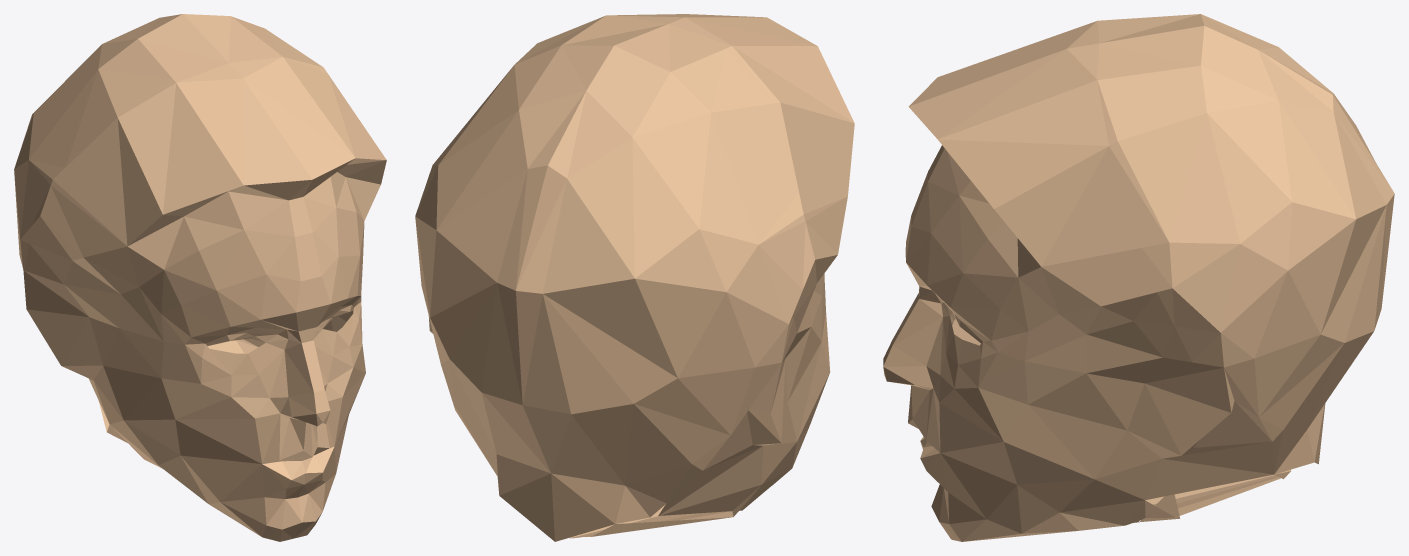
File: Head_mesh.dae
3 renders of one model, left to right at view 1: azimuth 30°, elevation 25°; view 2: azimuth 150°, elevation 25°; view 3: azimuth 270°, elevation 25°, orthographic. The views are drawn at different scales.
Parts seen in each view (by area): view 1: Head; view 2: Head; view 3: Head.
Part boxes in pixels (x1,y1,x2,y2): Head: [14, 14, 386, 541]; Head: [415, 14, 854, 541]; Head: [883, 14, 1394, 541].
Bounding box in the file's own units: 0.1874 × 0.2536 × 0.2322.
